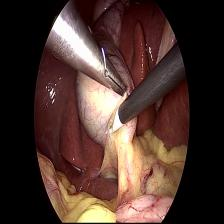Grasper: (102, 50, 128, 98)
Hook: (106, 109, 124, 140)
